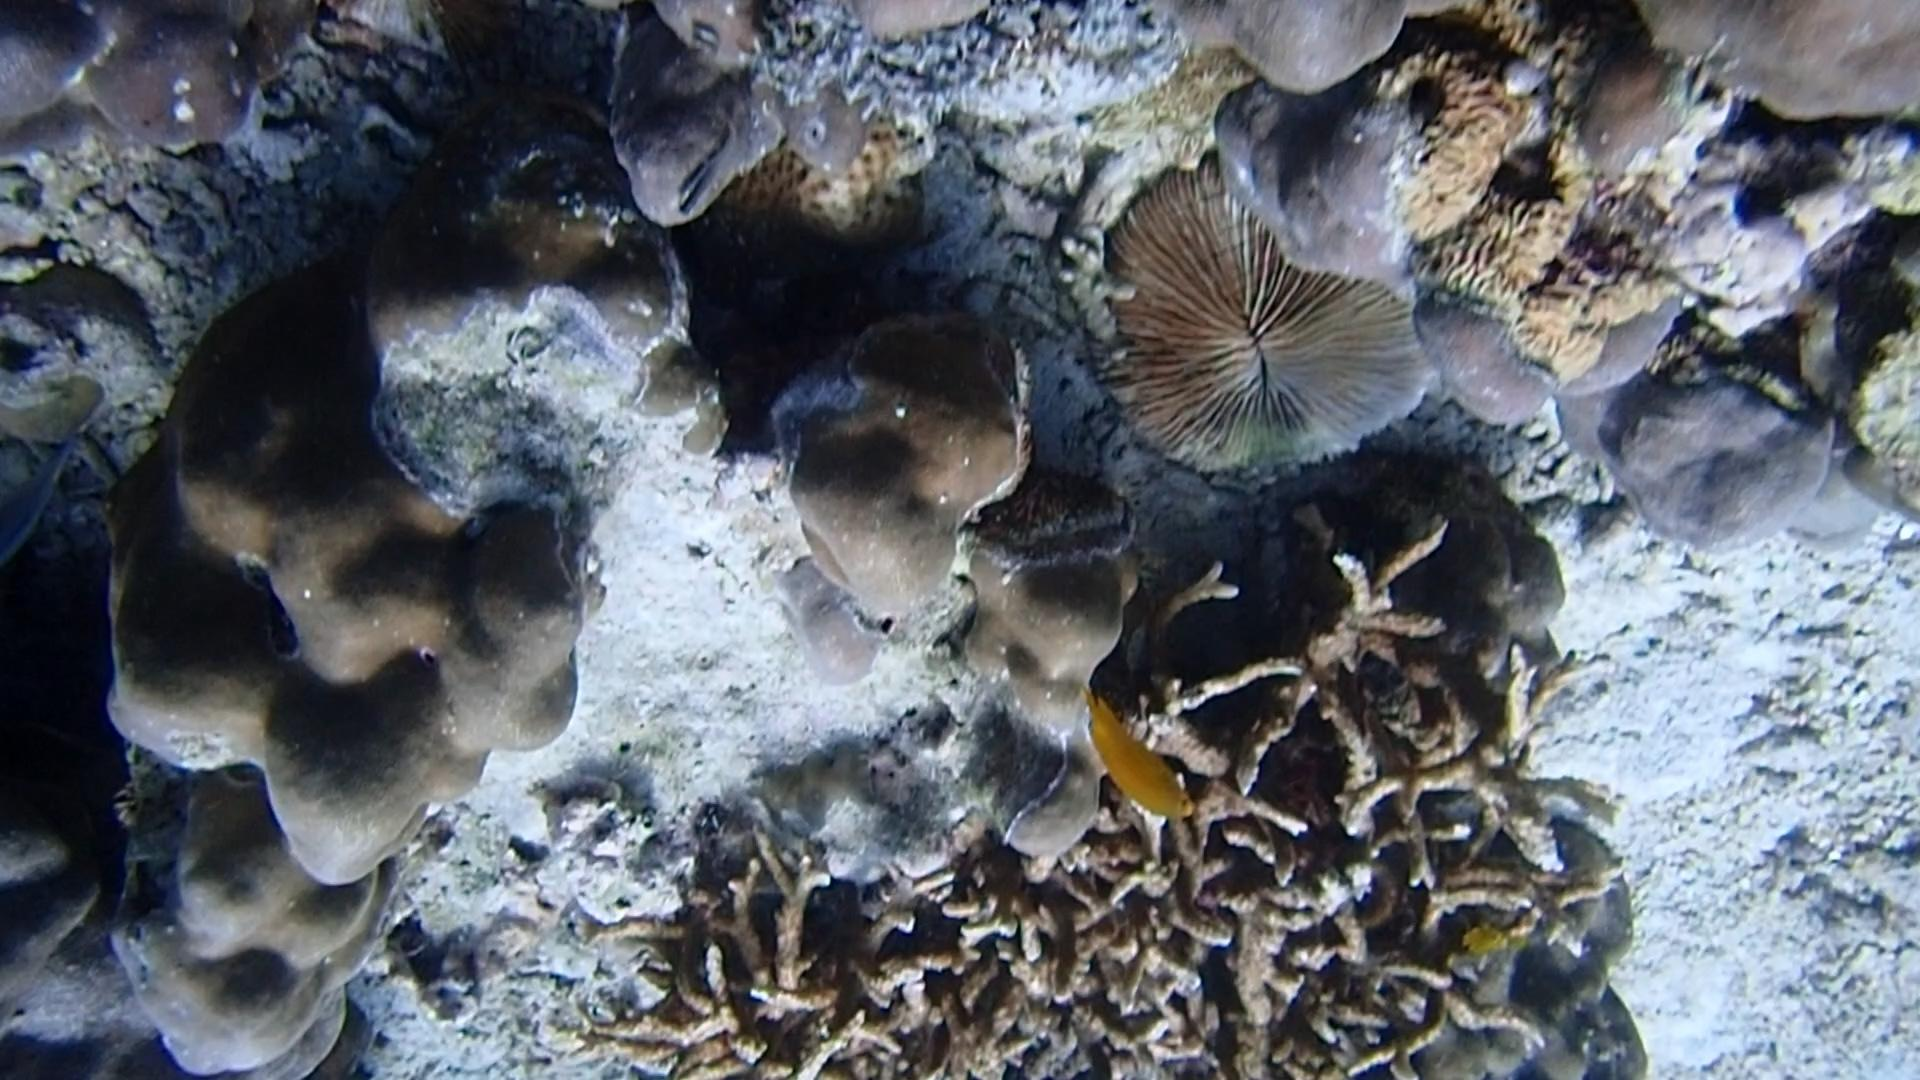Yellow Fish: (1063, 675, 1201, 828), (1452, 914, 1507, 963)
